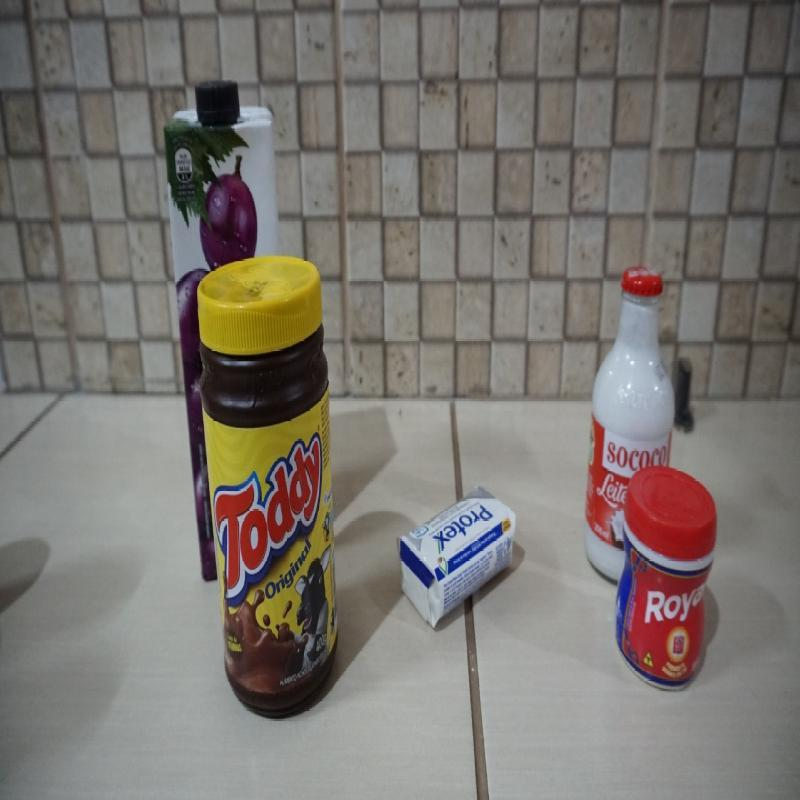Chocolate Powder: (197, 256, 338, 712)
Coconut Milk: (584, 264, 676, 588)
Soap: (396, 483, 515, 628)
Yeast: (615, 464, 718, 695)
